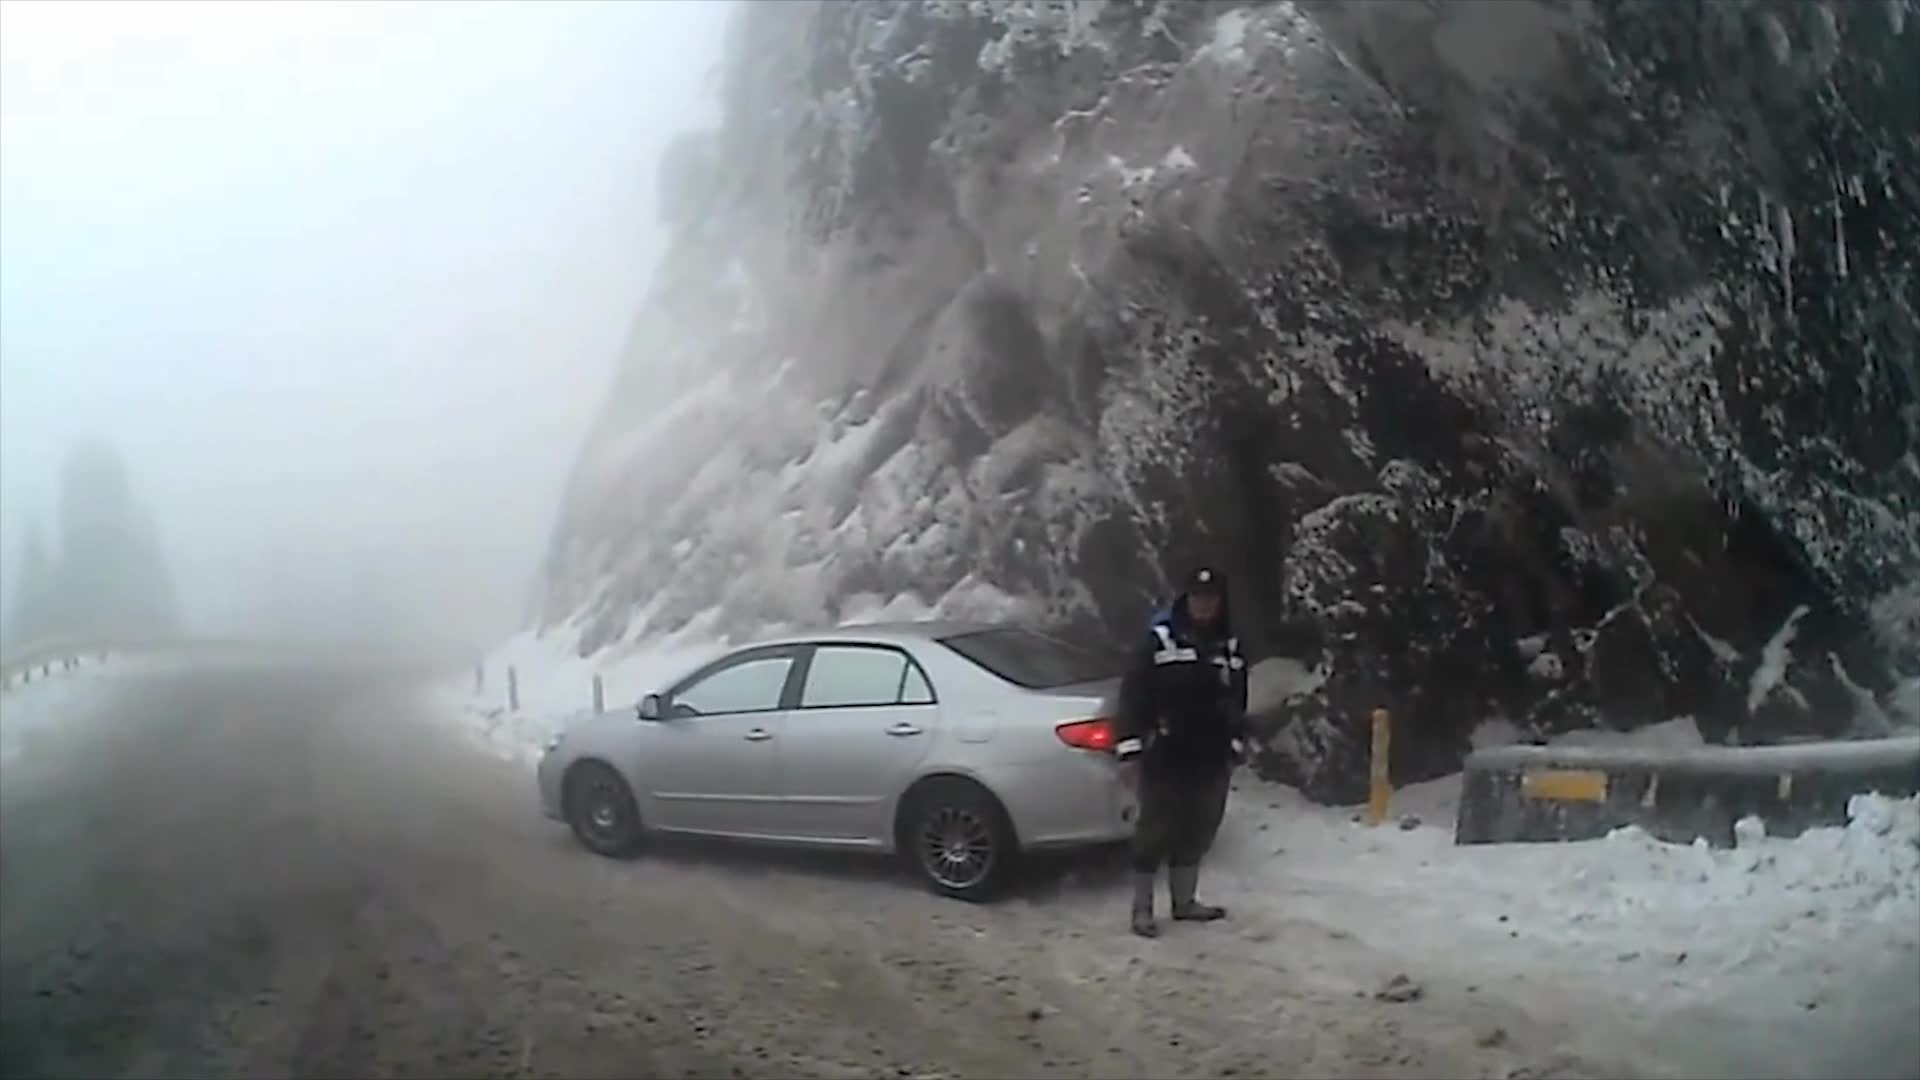pedestrian: (1111, 569, 1248, 940)
vehicle: (534, 619, 1236, 903)
